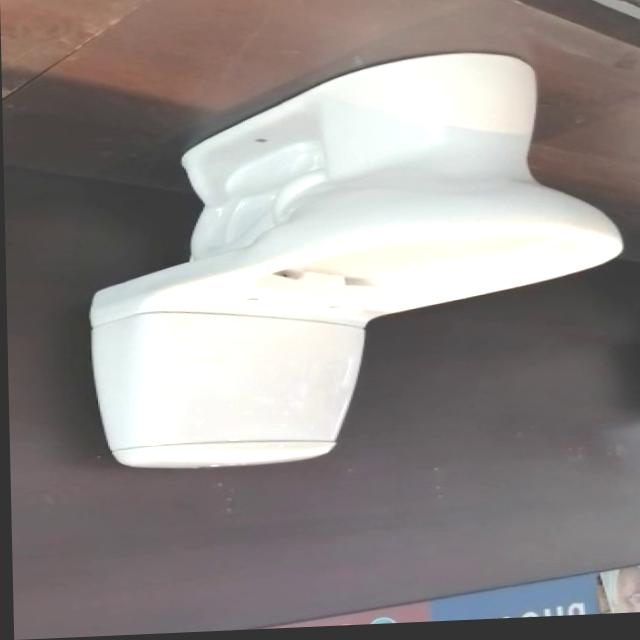toilet: (81, 52, 624, 476)
